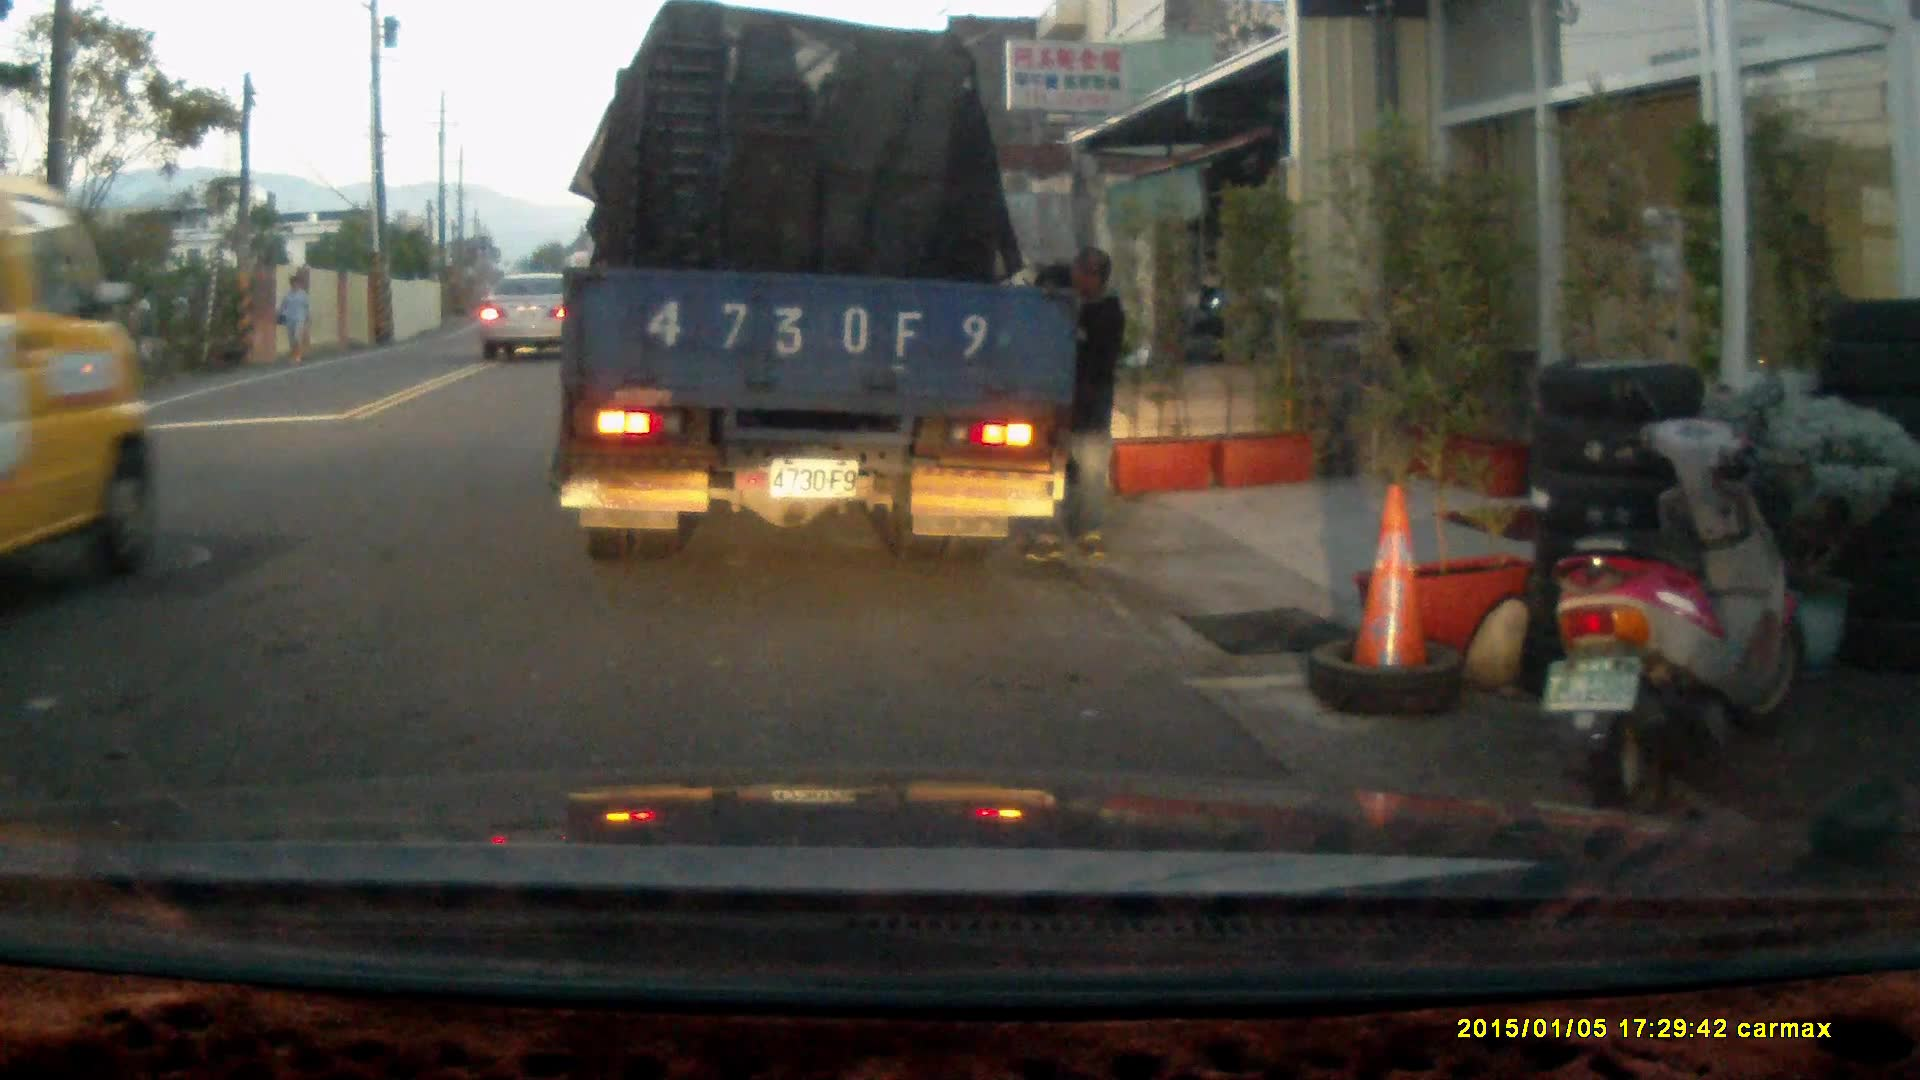pedestrian: (1009, 242, 1126, 561), (270, 272, 311, 366)
vehicle: (556, 25, 1067, 555), (1, 150, 157, 583), (482, 270, 586, 356)
